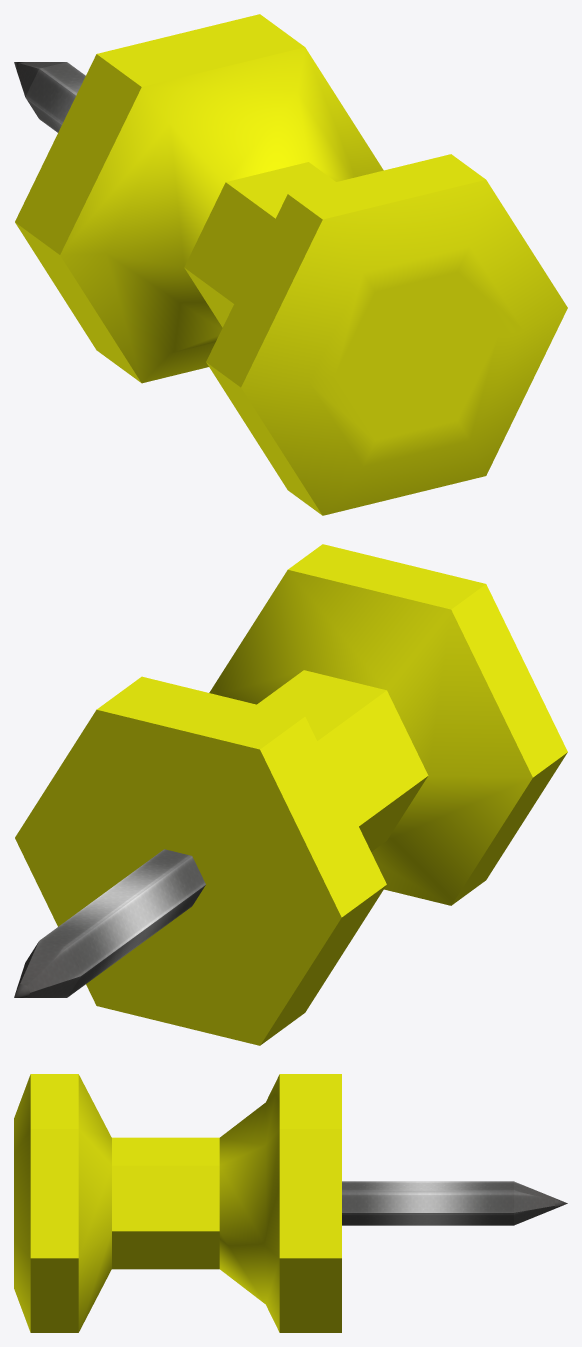
File: Tack_I.FBX
3 renders of one model, top to bottom at view 1: azimuth 30°, elevation 25°; view 2: azimuth 150°, elevation 25°; view 3: azimuth 270°, elevation 25°, orthographic. The views are drawn at different scales.
Parts seen in each view (by area): view 1: Tack; view 2: Tack; view 3: Tack.
Boxes of the visible parts, bbox=[...] form: Tack: bbox=[14, 14, 567, 515]; Tack: bbox=[14, 544, 567, 1045]; Tack: bbox=[14, 1074, 567, 1332].
Bounding box in the file's own units: 6.28 × 5.43 × 13.38.
